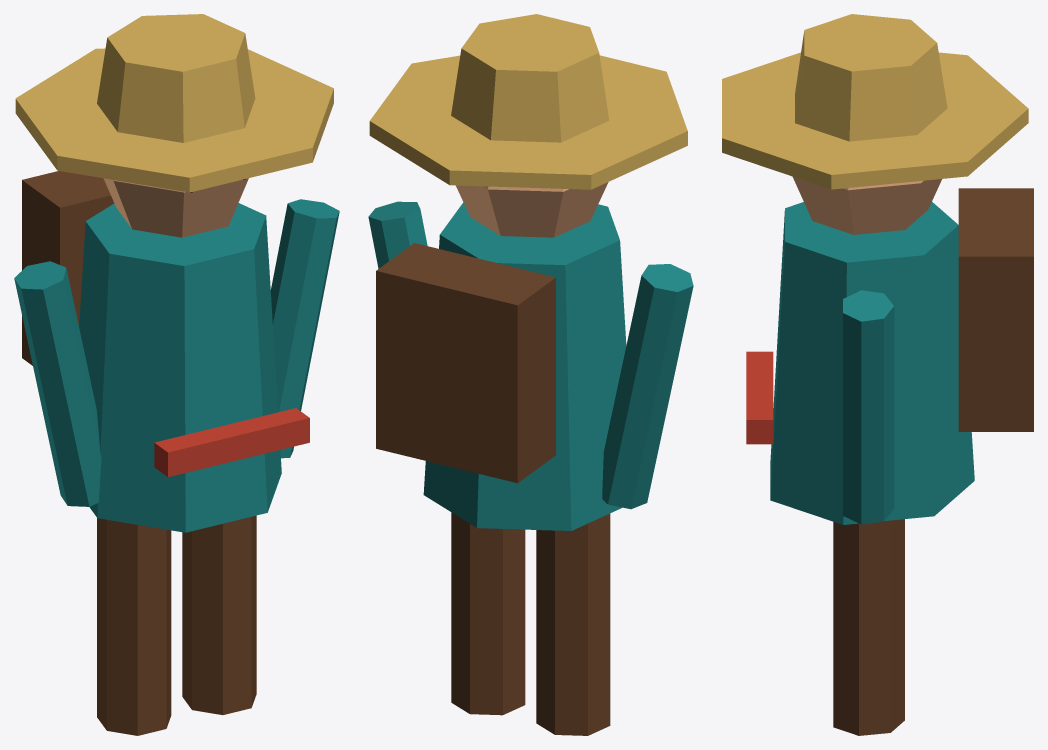
File: explorer-lod1.glb
3 renders of one model, left to right at view 1: azimuth 30°, elevation 25°; view 2: azimuth 150°, elevation 25°; view 3: azimuth 270°, elevation 25°, orthographic.
Parts seen in each view (by area): view 1: explorer; view 2: explorer; view 3: explorer.
Part boxes in pixels (x1=…): explorer: x1=14, y1=14, x2=339, y2=735; explorer: x1=368, y1=14, x2=693, y2=735; explorer: x1=722, y1=14, x2=1033, y2=735.
Size of the model in its own units: 0.6736 by 1.35 by 0.5803.
